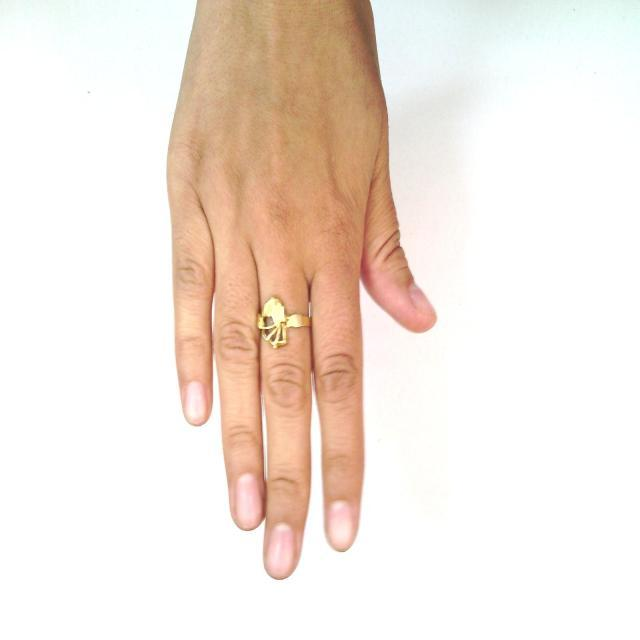Fingernail: (267, 524, 294, 577), (236, 475, 261, 528), (328, 501, 353, 550), (185, 382, 206, 423), (411, 284, 435, 317)
